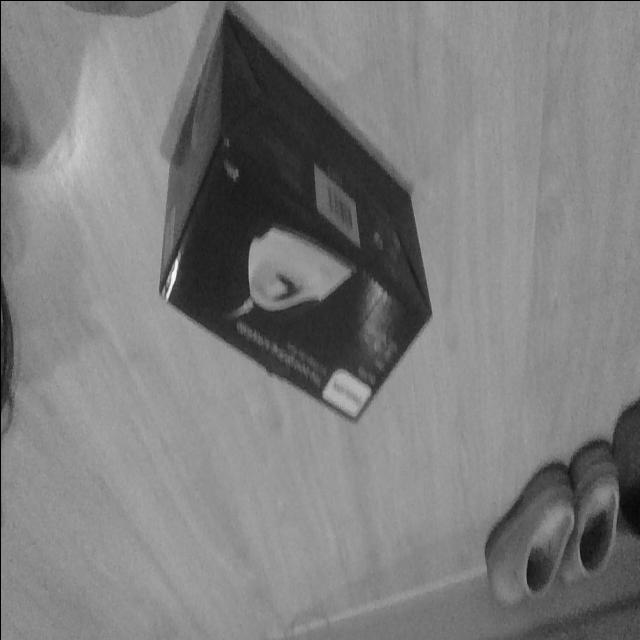IRON: (156, 8, 434, 428)
